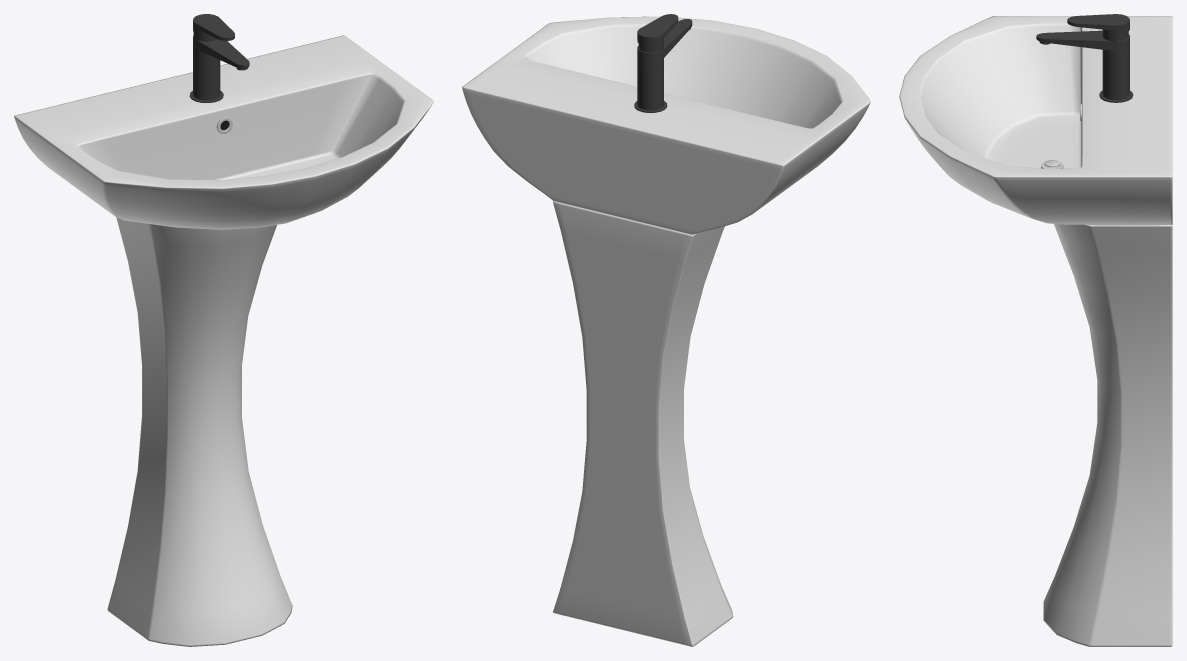
Rendered from bathroom_washbasin_01.glb.
The picture shows the model from 3 angles, left to right: view 1: azimuth 30°, elevation 25°; view 2: azimuth 150°, elevation 25°; view 3: azimuth 270°, elevation 25°; orthographic projection. The views are drawn at different scales.
Visible parts, largest first — view 1: WashBasin06, Faucet06, FaucetLever02.002; view 2: WashBasin06, Faucet06, FaucetLever02.002; view 3: WashBasin06, Faucet06, FaucetLever02.002.
Part boxes in pixels (x1=…): WashBasin06: x1=14, y1=35, x2=433, y2=646; Faucet06: x1=189, y1=34, x2=249, y2=102; FaucetLever02.002: x1=193, y1=14, x2=234, y2=41; WashBasin06: x1=462, y1=16, x2=870, y2=646; Faucet06: x1=634, y1=19, x2=692, y2=112; FaucetLever02.002: x1=637, y1=14, x2=678, y2=50; WashBasin06: x1=899, y1=16, x2=1172, y2=646; Faucet06: x1=1036, y1=30, x2=1133, y2=102; FaucetLever02.002: x1=1067, y1=14, x2=1129, y2=41.
Size of the model in its own units: 0.6364 by 1.09 by 0.4573.
Materials: 1 (1 with a texture image).
